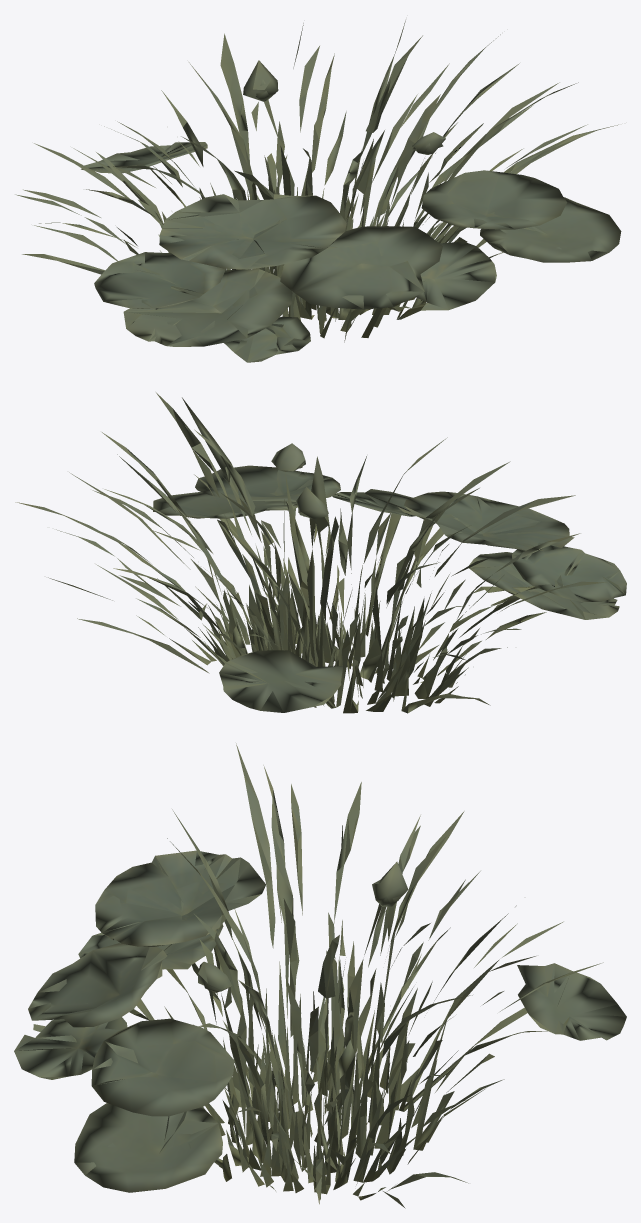
The model's file is 07_Water_Edge_Clump.fbx.
3 renders of one model, top to bottom at view 1: azimuth 30°, elevation 25°; view 2: azimuth 150°, elevation 25°; view 3: azimuth 270°, elevation 25°, orthographic. The views are drawn at different scales.
Visible parts, largest first — view 1: 07_Water_Edge_Clump; view 2: 07_Water_Edge_Clump; view 3: 07_Water_Edge_Clump.
Part boxes in pixels (x1,y1,x2,y2): 07_Water_Edge_Clump: (15, 20, 621, 362); 07_Water_Edge_Clump: (15, 392, 626, 713); 07_Water_Edge_Clump: (14, 743, 626, 1208).
Bounding box in the file's own units: 2.2 × 0.8 × 1.6.
